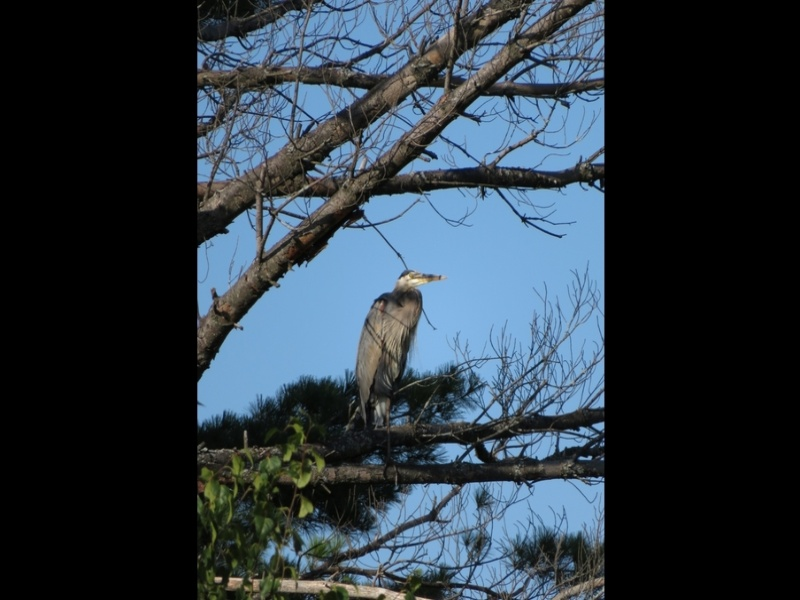heron: (353, 270, 450, 432)
